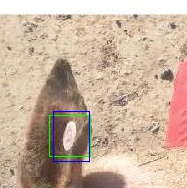text: (49, 115, 90, 156)
